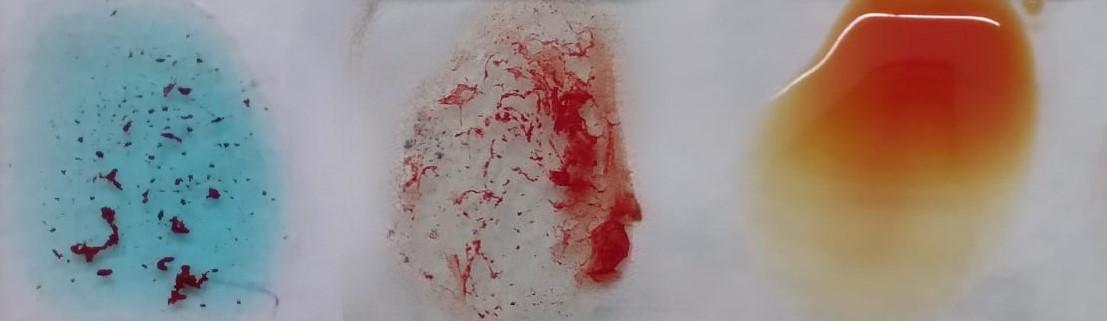A: (24, 7, 272, 317)
D: (395, 9, 633, 321)
